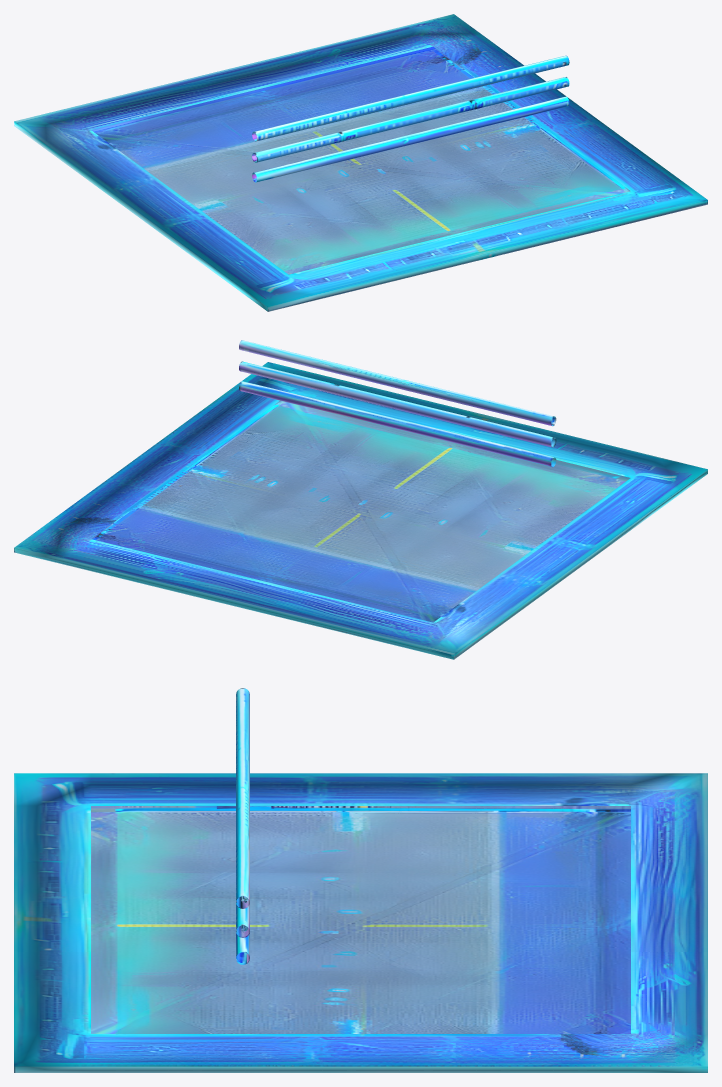
The model's file is roadBasicFloorFence.glb.
3 views of the same model, one above another, from view 1: azimuth 30°, elevation 25°; view 2: azimuth 150°, elevation 25°; view 3: azimuth 270°, elevation 25° (orthographic). The views are drawn at different scales.
Parts seen in each view (by area): view 1: Mesh_0.001; view 2: Mesh_0.001; view 3: Mesh_0.001.
Part boxes in pixels (<box>): Mesh_0.001: <box>14,14,707,311</box>; Mesh_0.001: <box>14,340,707,659</box>; Mesh_0.001: <box>14,688,707,1072</box>.
Size of the model in its own units: 1 by 0.22 by 1.
Materials: 1 (1 with a texture image).
